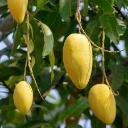mango: (61, 33, 92, 89)
